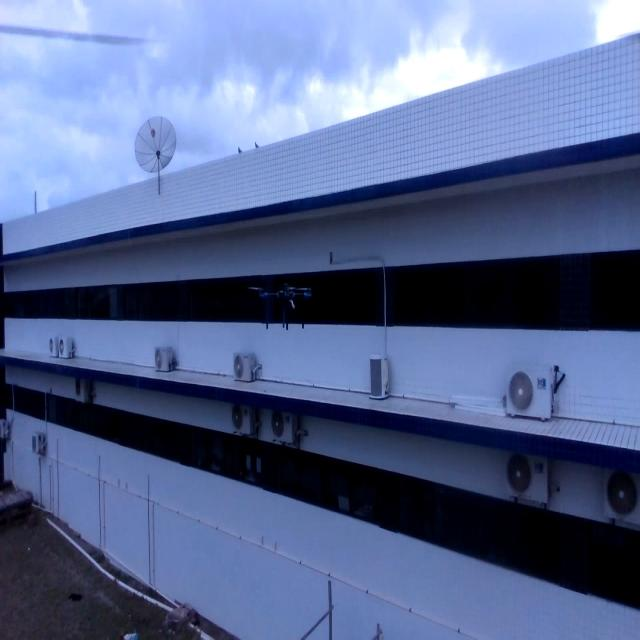-uav-: (252, 273, 323, 339)
